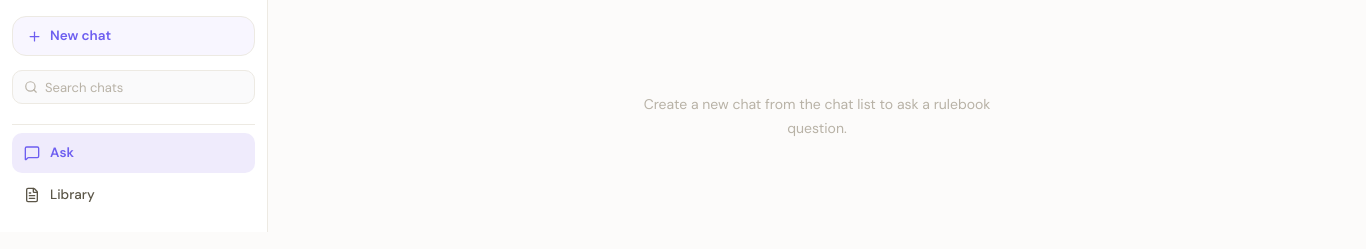
Test: ChatPage › keeps the clean state and shows create errors
Click the button with test id "ask-new-chat-btn" at (134, 36), box top-left (12, 16), bottom-right (255, 56)
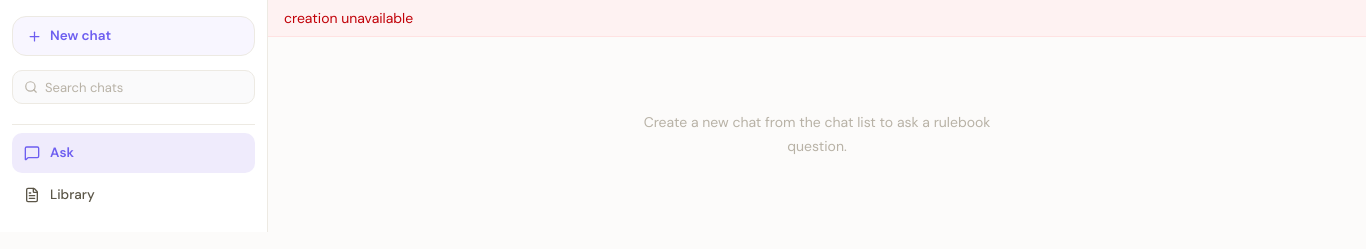
Now the message reads "creation unavailable", box top-left (284, 9), bottom-right (413, 27)
